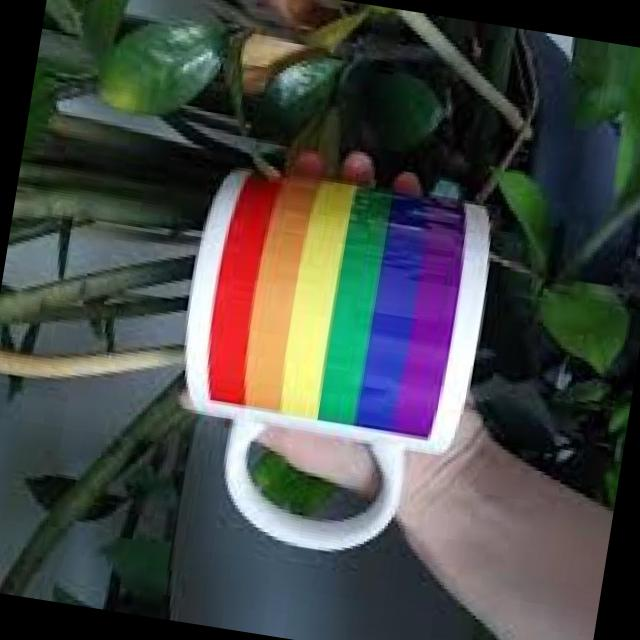Coffee Mug: (155, 160, 501, 570)
